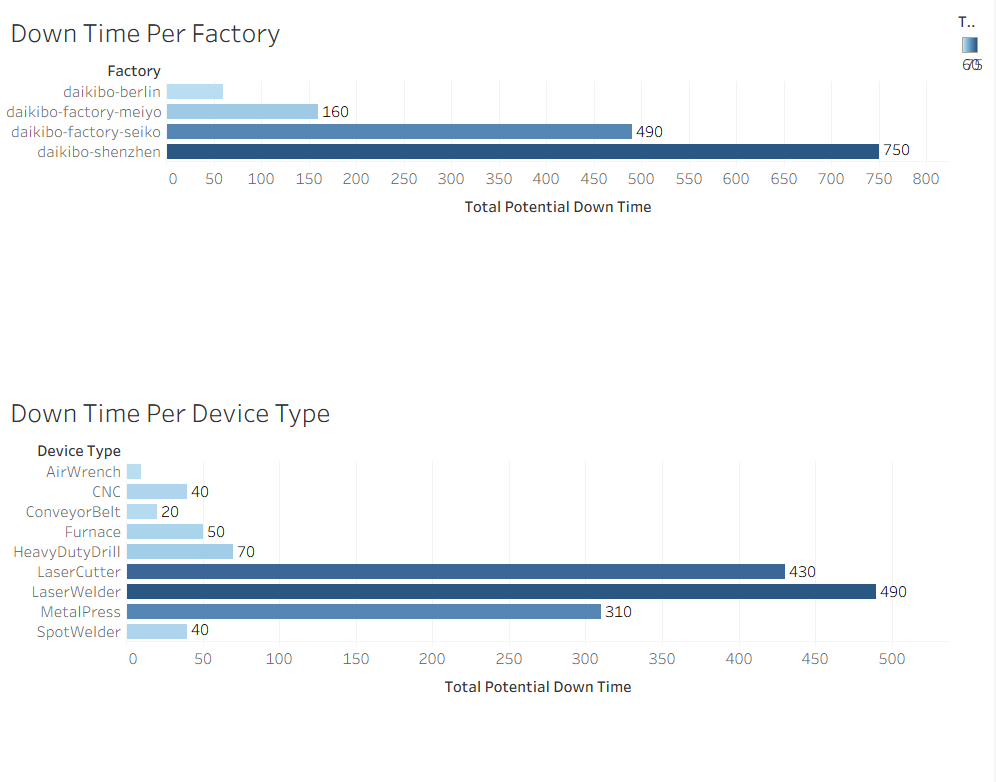

The page's visual inventory and layout, read from the dashboard file:
{"tool":"tableau","page":{"name":"Dashboard 1","canvas":[1000,800],"ordinal":0},"visuals":[{"type":"worksheet","title":"Down_Time_per_Factory","mark":"Automatic","rows":["factory"],"cols":["Calculation_1754058981421057"],"box":[8,8,952,380]},{"type":"legend","title":"Down_Time_per_Factory","param":"[federated.0hxhycc0irf33h1blr8rl10hzli0].[usr:Calculation_1754058981421057:qk]","box":[960,8,32,73]},{"type":"worksheet","title":"Down_Time_per_Device_Type","mark":"Automatic","rows":["deviceType"],"cols":["Calculation_1754058981421057"],"box":[8,388,952,404]}]}

Visuals, with their boxes in screenshot pixels (x1, y1, x2, y2), scaled from the page's 1000x800 canvas onto the 996x782 screenshot:
"Down_Time_per_Factory" worksheet: 8/8/956/379
"Down_Time_per_Factory" legend: 956/8/988/79
"Down_Time_per_Device_Type" worksheet: 8/379/956/774
